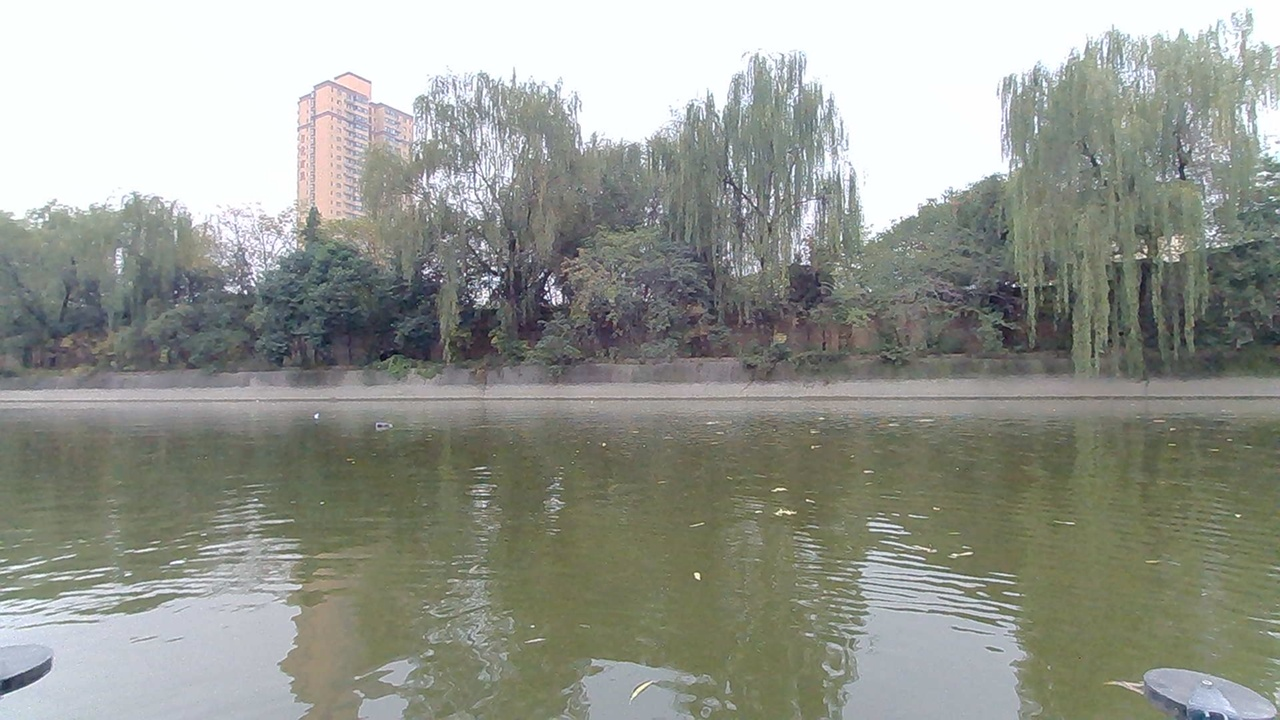bottle: (356, 411, 393, 435)
